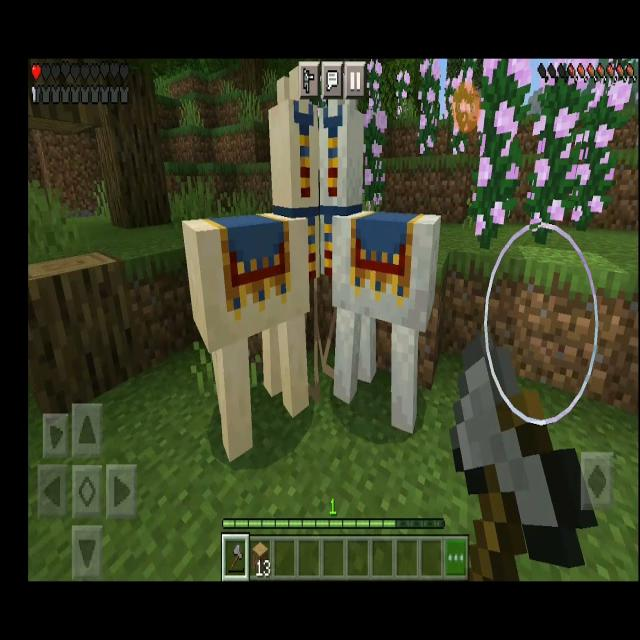Trader Lama: (180, 64, 334, 467), (305, 73, 445, 444)
